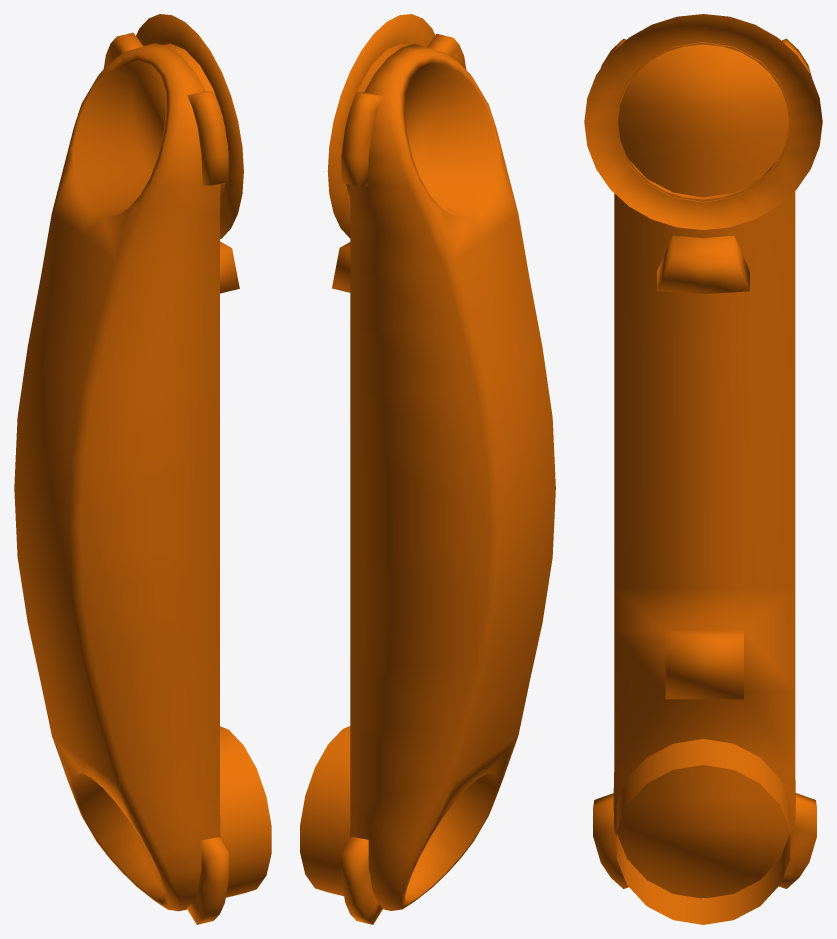
The picture shows the model from 3 angles, left to right: view 1: azimuth 30°, elevation 25°; view 2: azimuth 150°, elevation 25°; view 3: azimuth 270°, elevation 25°; orthographic projection.
Visible parts, largest first — view 1: Object_94.209; view 2: Object_94.209; view 3: Object_94.209.
Boxes of the visible parts, box(x1,y1,x2,y2) form: Object_94.209: box(14, 14, 271, 924); Object_94.209: box(300, 14, 555, 924); Object_94.209: box(584, 14, 822, 924).
Size of the model in its own units: 0.9078 by 0.99 by 4.07.
